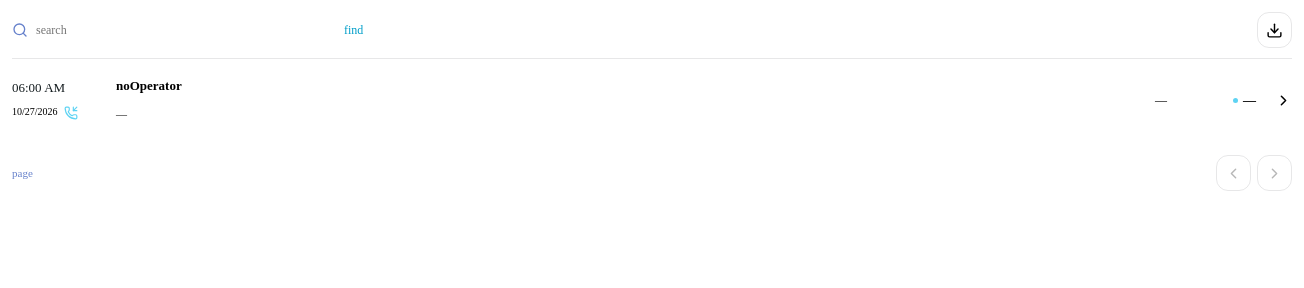
Test: does not download a partial file when a later page fails and allows retry
The width and height of the screenshot is (1304, 288).
What coordinates should you click on to do the following:
click the button named "exportAll"
I would click on:
 (1274, 30)
Its box is left=1257, top=12, right=1292, bottom=48.
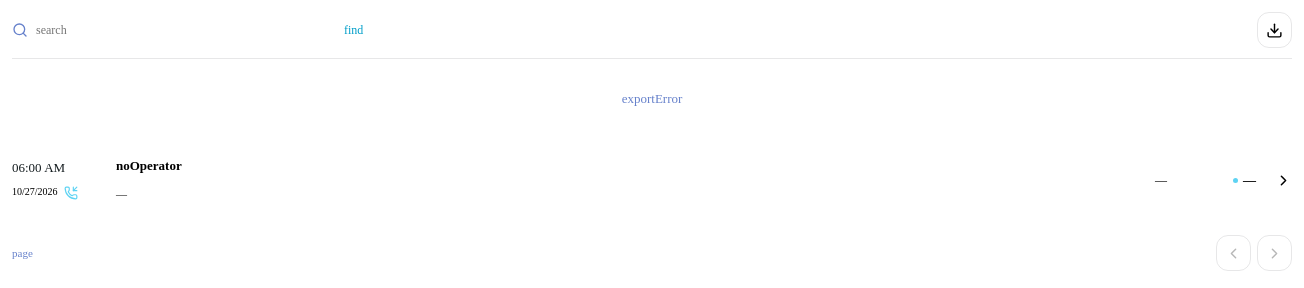
expect the message reads "exportError": met, box left=622, top=91, right=682, bottom=106
